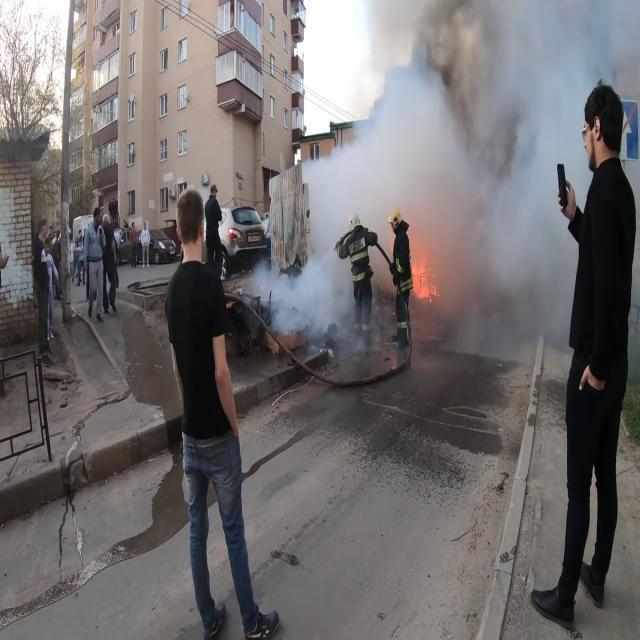Smoke: (338, 0, 578, 304), (254, 233, 358, 355)
